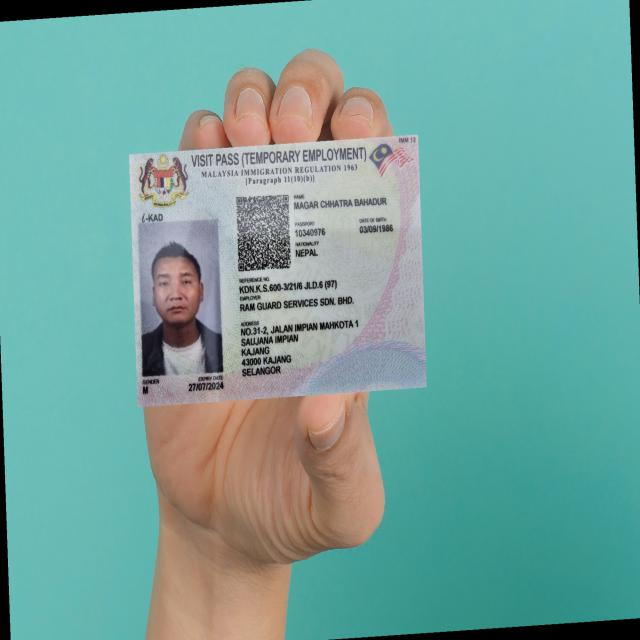ikad-temp: (128, 134, 427, 406)
